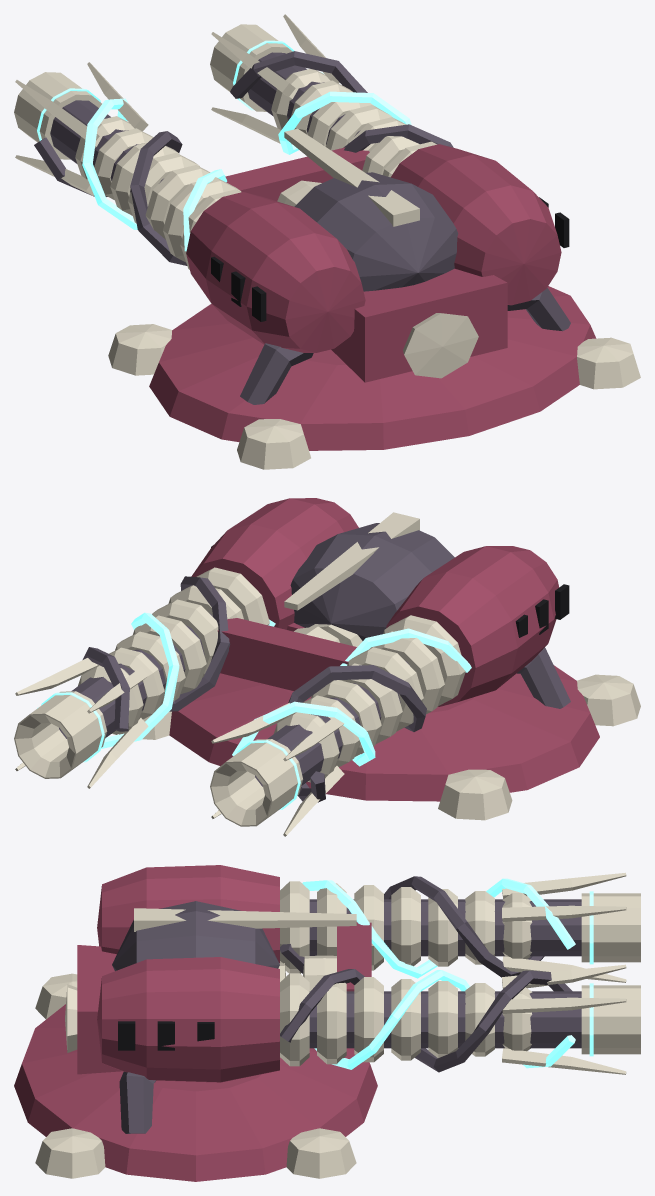
File: item_gun_helix.glb
3 views of the same model, one above another, from view 1: azimuth 30°, elevation 25°; view 2: azimuth 150°, elevation 25°; view 3: azimuth 270°, elevation 25° (orthographic). The views are drawn at different scales.
Parts seen in each view (by area): view 1: item_gun_helix_Flesh, item_gun_helix_Bone, item_gun_helix_Sinew, item_gun_helix_Glow, item_gun_helix_Bore; view 2: item_gun_helix_Flesh, item_gun_helix_Bone, item_gun_helix_Sinew, item_gun_helix_Glow, item_gun_helix_Bore; view 3: item_gun_helix_Flesh, item_gun_helix_Bone, item_gun_helix_Sinew, item_gun_helix_Glow, item_gun_helix_Bore.
Boxes of the visible parts, bbox=[...] form: item_gun_helix_Flesh: bbox=[149, 144, 596, 450]; item_gun_helix_Bone: bbox=[14, 14, 640, 469]; item_gun_helix_Sinew: bbox=[34, 51, 570, 404]; item_gun_helix_Glow: bbox=[37, 40, 411, 251]; item_gun_helix_Bore: bbox=[211, 197, 569, 321]; item_gun_helix_Flesh: bbox=[169, 498, 599, 801]; item_gun_helix_Bone: bbox=[14, 512, 640, 836]; item_gun_helix_Sinew: bbox=[59, 523, 570, 802]; item_gun_helix_Glow: bbox=[37, 612, 471, 809]; item_gun_helix_Bore: bbox=[211, 545, 569, 637]; item_gun_helix_Flesh: bbox=[14, 865, 377, 1181]; item_gun_helix_Bone: bbox=[35, 872, 640, 1178]; item_gun_helix_Sinew: bbox=[112, 876, 581, 1133]; item_gun_helix_Glow: bbox=[302, 878, 593, 1069]; item_gun_helix_Bore: bbox=[118, 1021, 214, 1050].
Size of the model in its own units: 0.92 by 0.39 by 1.27.
